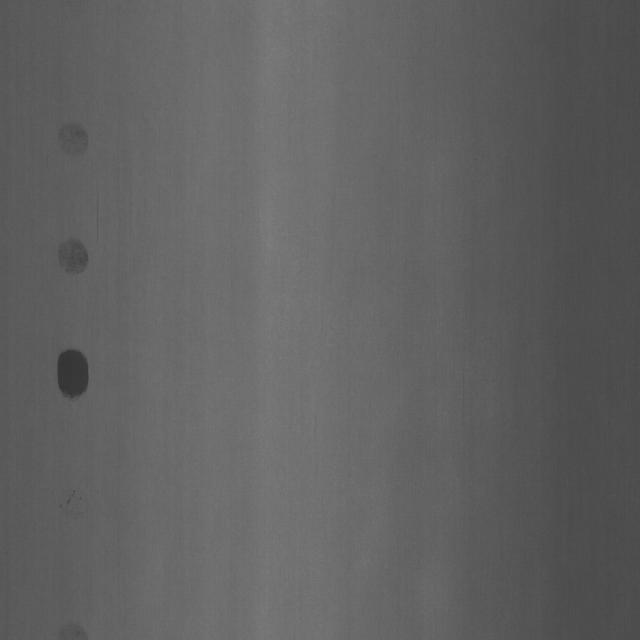welding_line: (54, 346, 92, 409), (52, 228, 91, 282), (54, 116, 90, 158)
